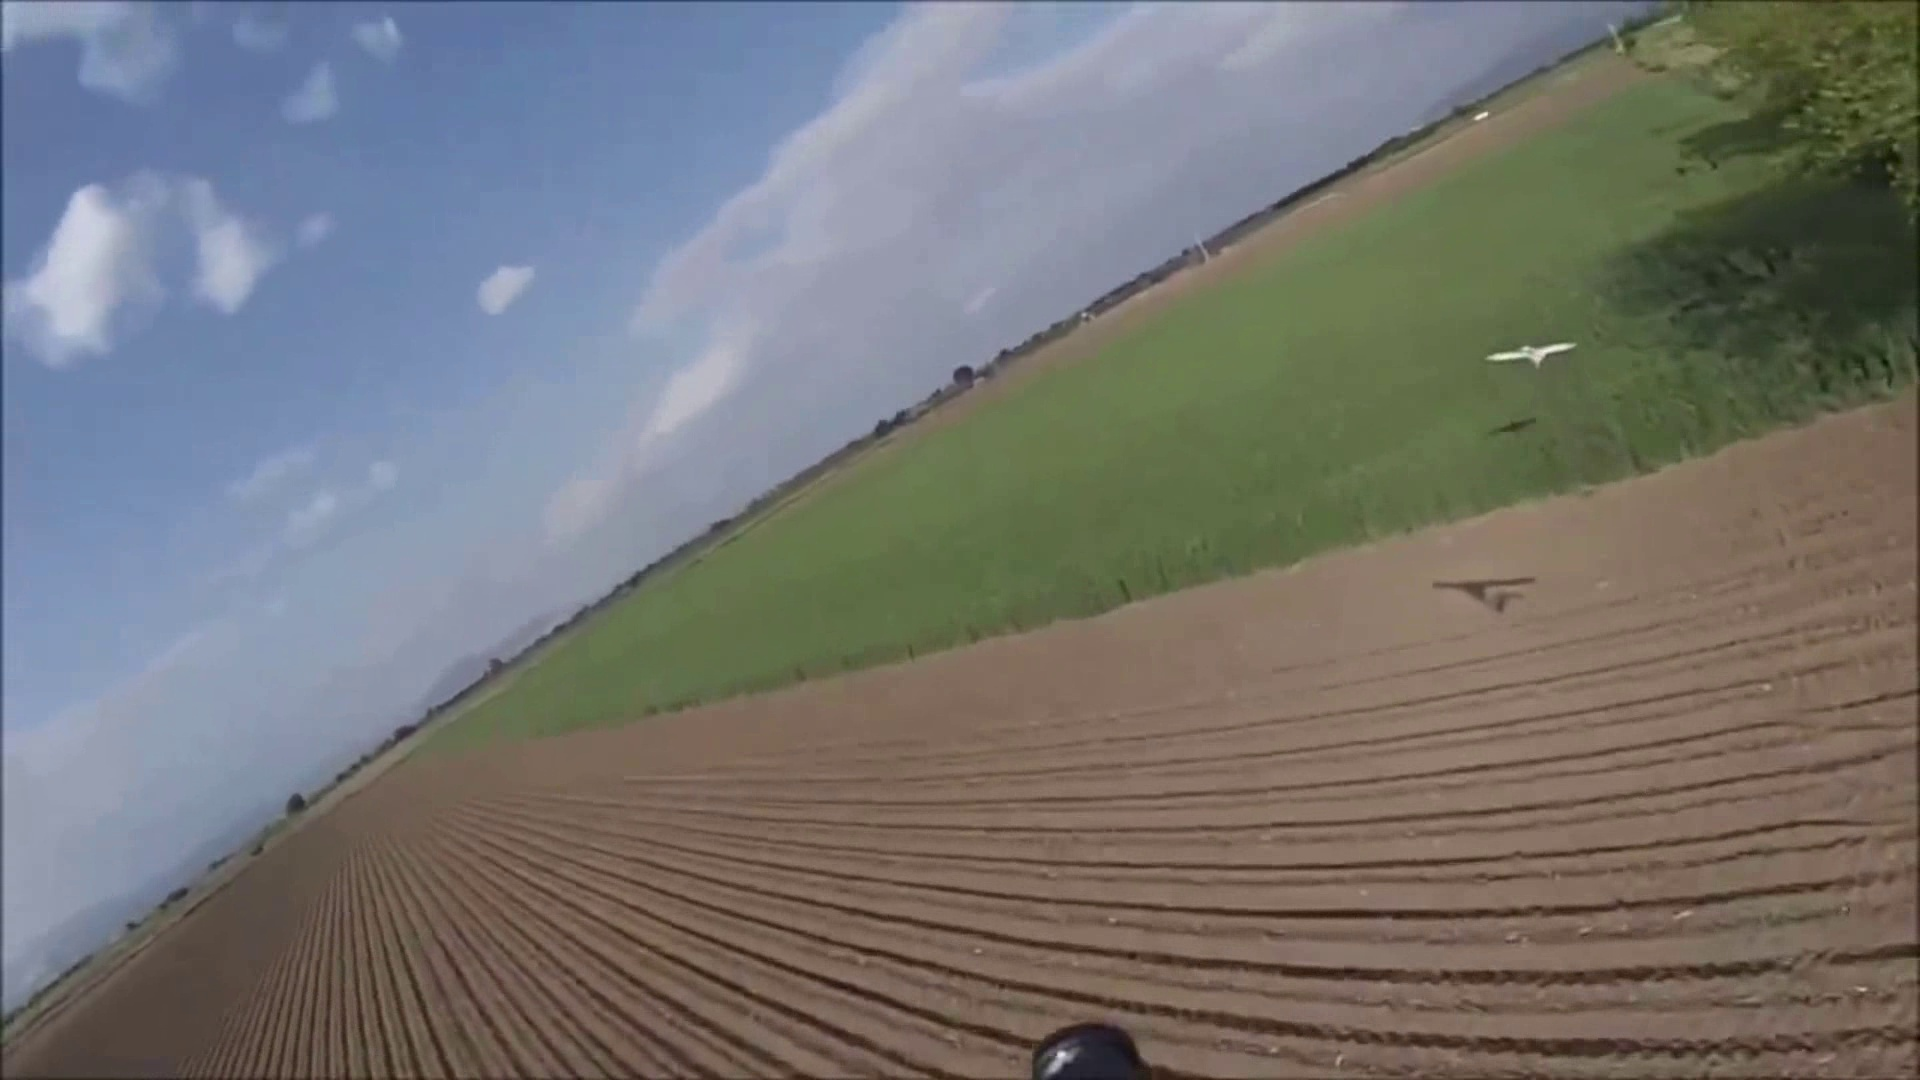airplane: (1484, 342, 1576, 367)
